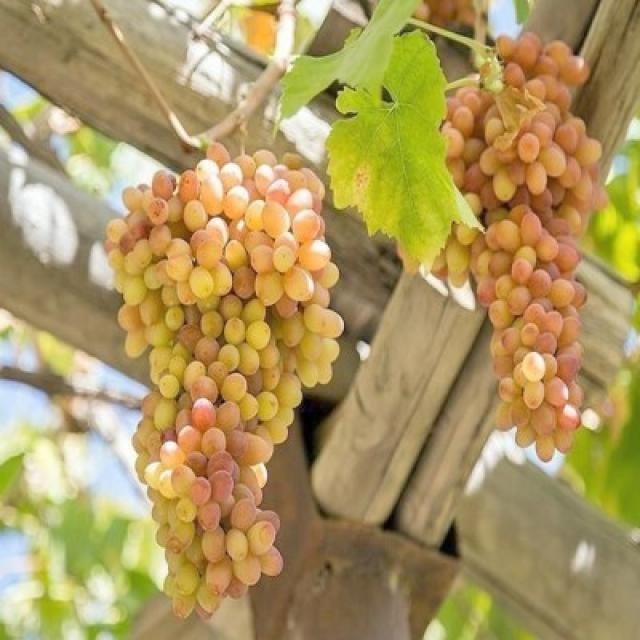grape: (96, 131, 355, 627), (414, 30, 616, 469)
